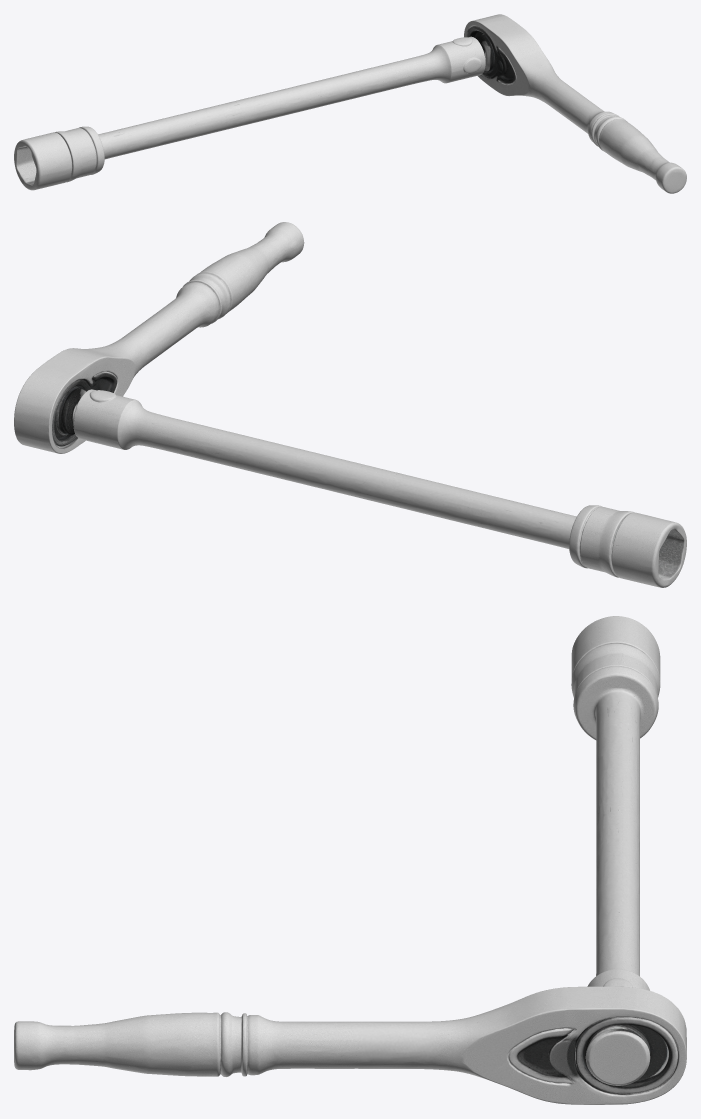
The model's file is spark_ratchet.glb.
3 renders of one model, top to bottom at view 1: azimuth 30°, elevation 25°; view 2: azimuth 150°, elevation 25°; view 3: azimuth 270°, elevation 25°, orthographic. The views are drawn at different scales.
Size of the model in its own units: 1.9 by 0.2119 by 1.34.
Materials: 1 (1 with a texture image).
